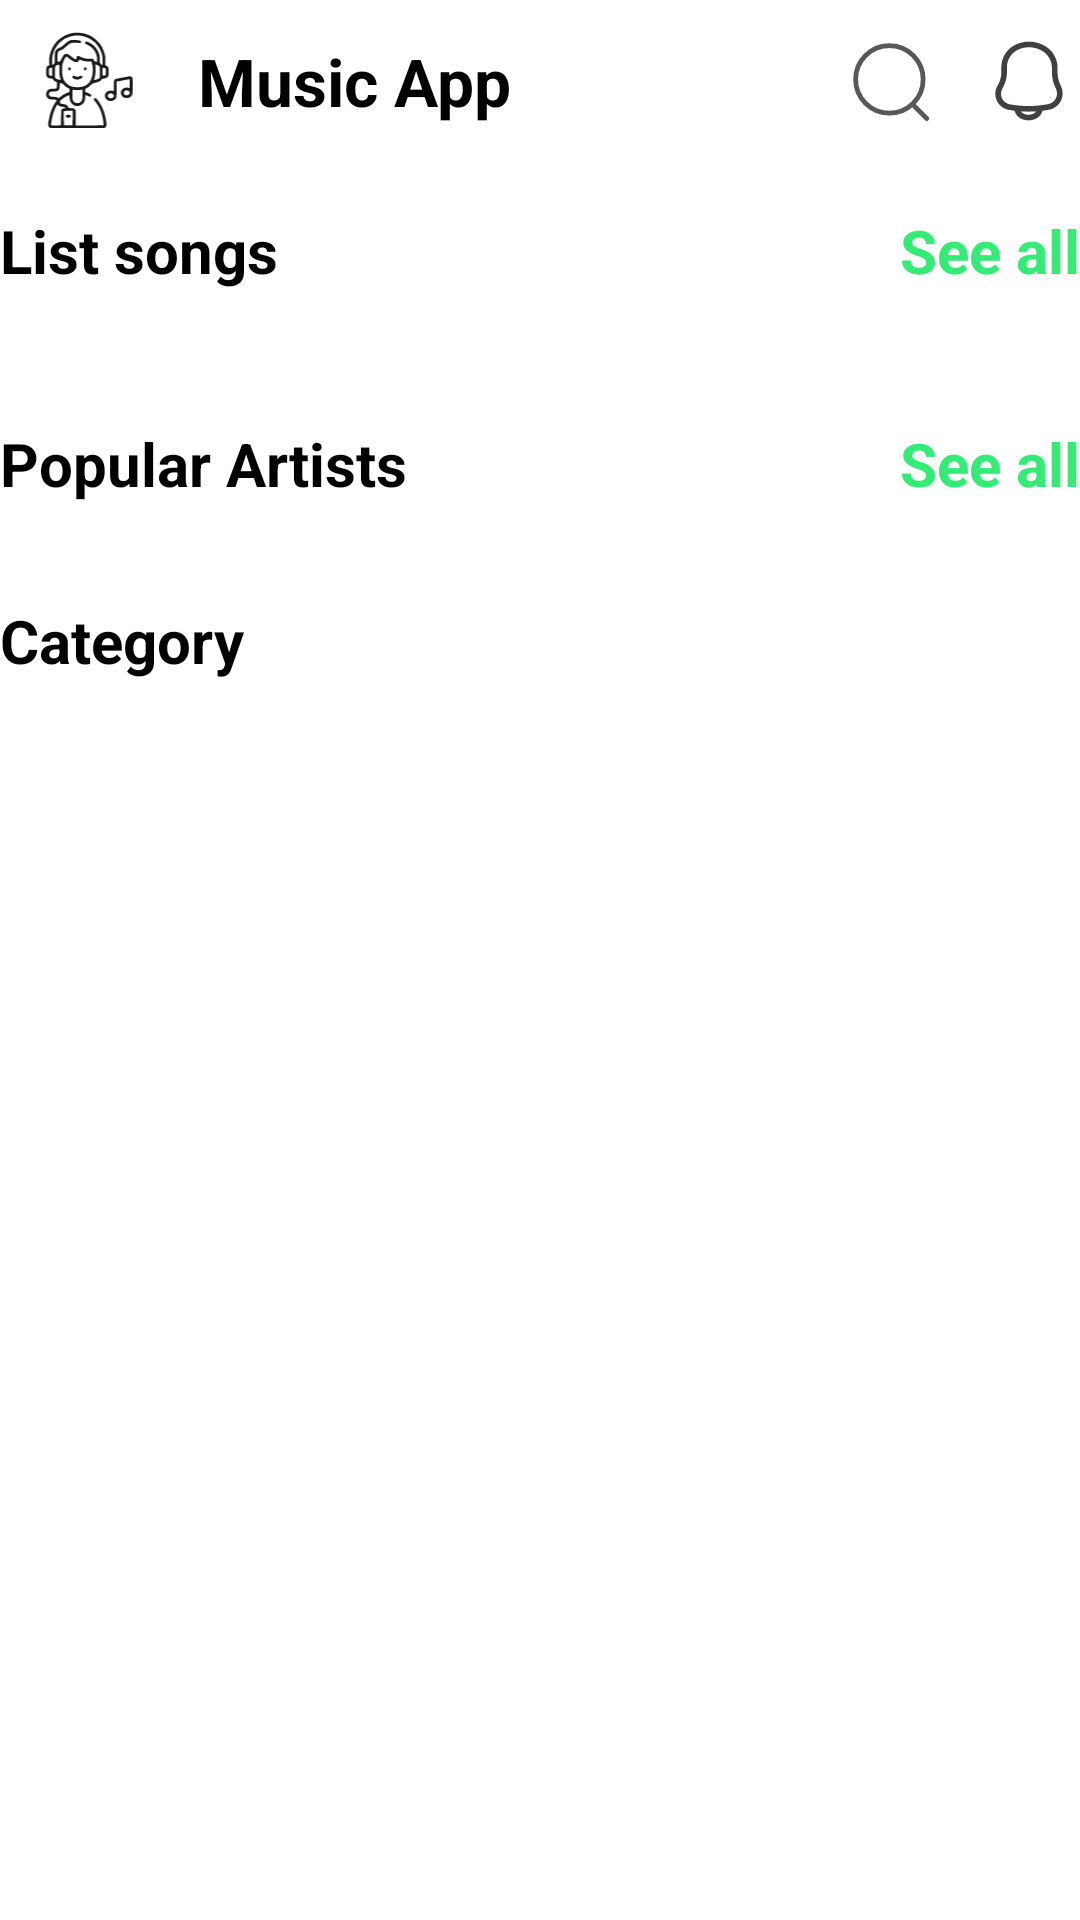

Named icons in this screenshot (1080px x 1920px) and their bounding boxes, (x1, y1, x2, y2):
notification: (995, 41, 1063, 121)
search: (853, 43, 930, 121)
